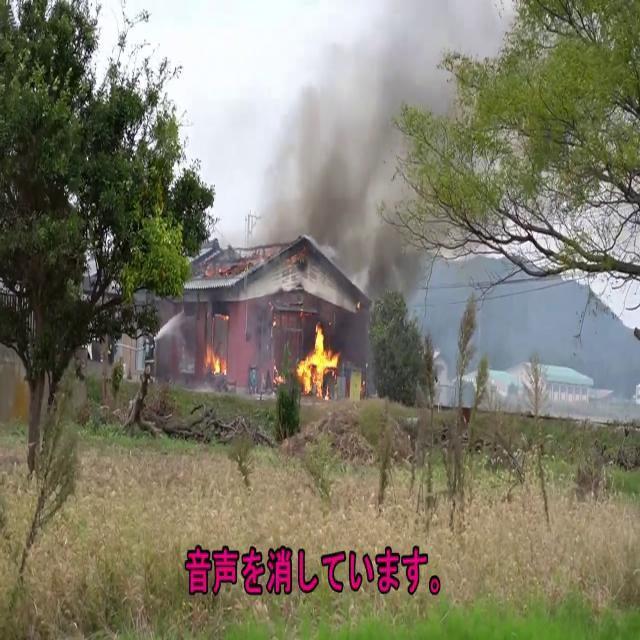Fire: (294, 321, 342, 396), (203, 340, 229, 382)
Smoke: (266, 3, 489, 290)
